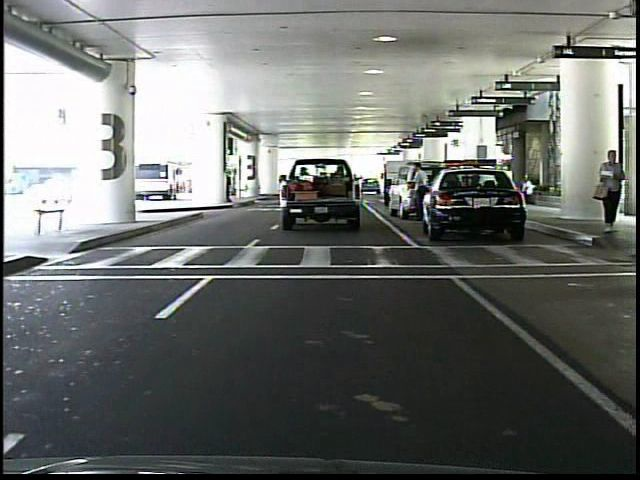person: (593, 146, 627, 238), (408, 159, 434, 225)
